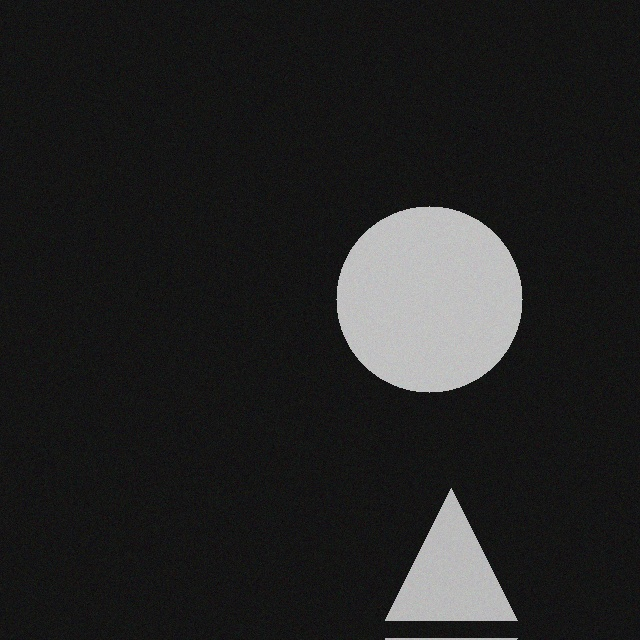circle: (325, 216, 511, 402)
triangle: (374, 498, 506, 630)
